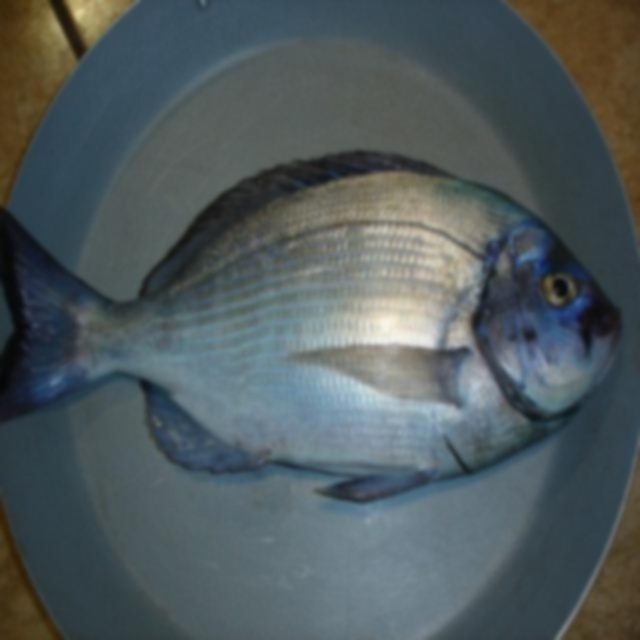Healthy Fish: (0, 146, 640, 506)
